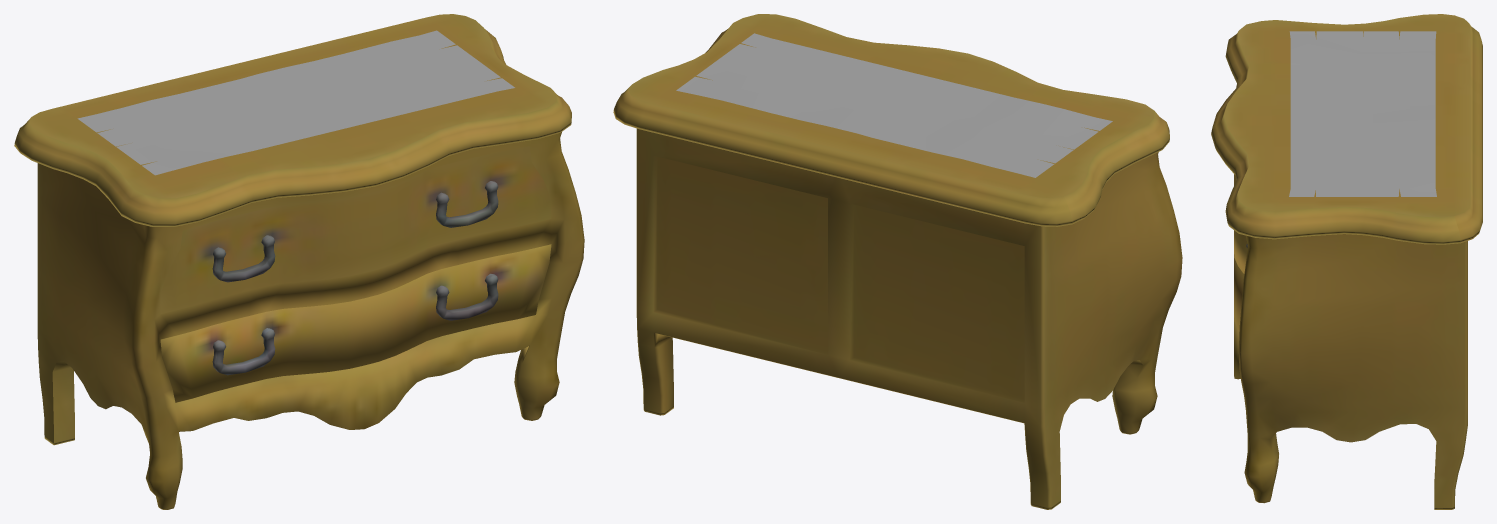
3 views of the same model, side by side, from view 1: azimuth 30°, elevation 25°; view 2: azimuth 150°, elevation 25°; view 3: azimuth 270°, elevation 25° (orthographic). The views are drawn at different scales.
Size of the model in its own units: 16.34 by 10.7 by 8.72.
Materials: 2 (2 with a texture image).
